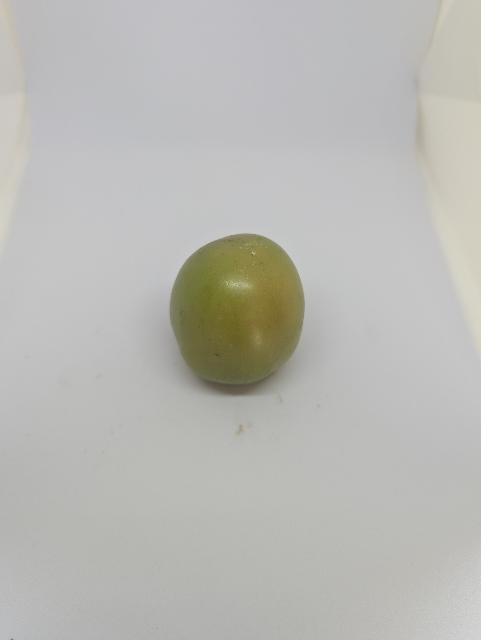green: (160, 226, 318, 397)
